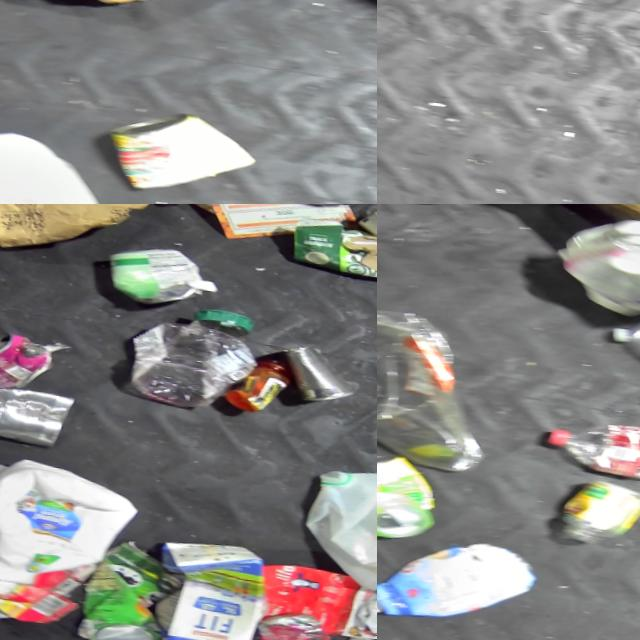can: (91, 104, 267, 204), (377, 444, 457, 541), (267, 339, 373, 406), (0, 378, 78, 449), (0, 328, 63, 397)
milk_jug: (0, 452, 152, 612), (535, 204, 640, 329), (296, 458, 377, 596), (0, 121, 133, 204)
plastic_bottle: (543, 414, 640, 488), (590, 298, 640, 384)
